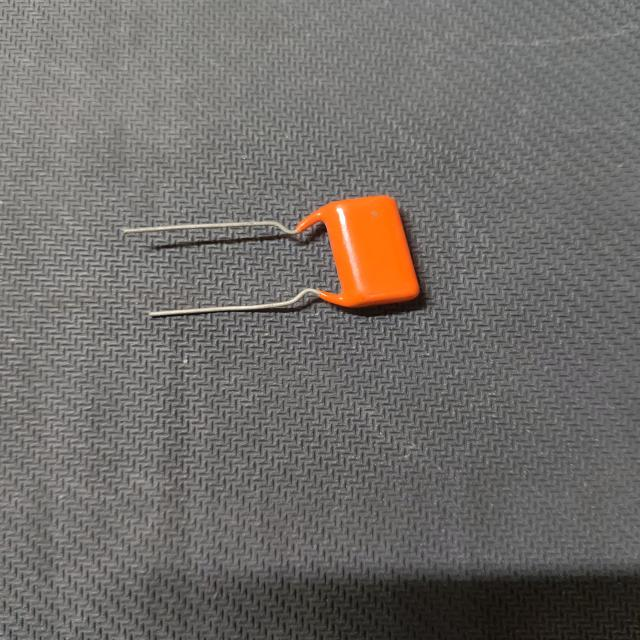capacitor: (118, 188, 434, 334)
